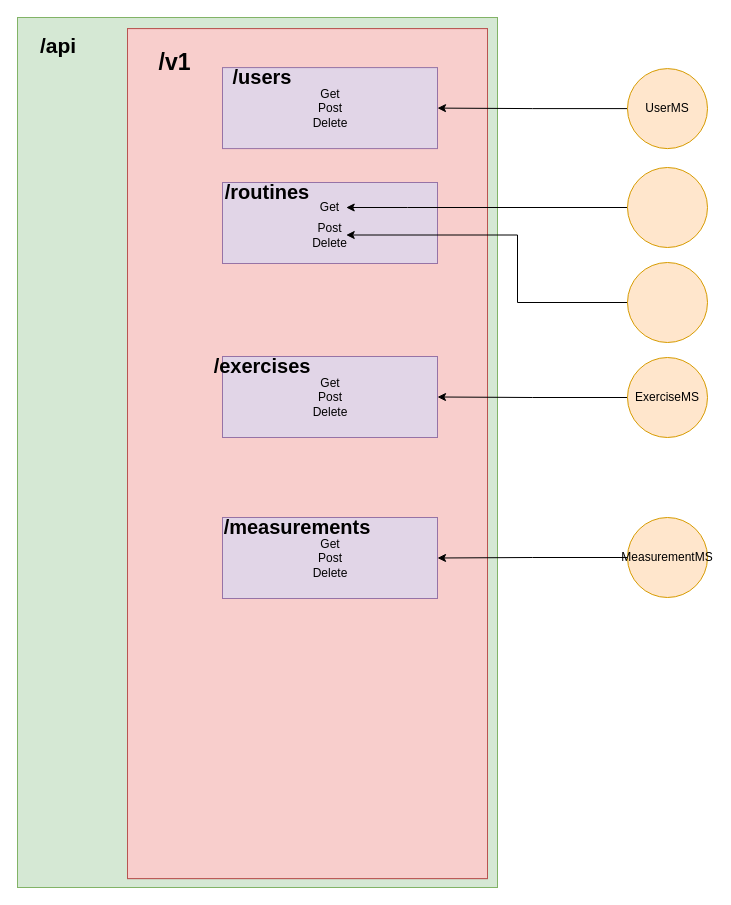
The diagram is 731 pixels wide and 905 high, and some of its shapes have lost their labels. Here are the shapes that lost their labels. From the top down, the centre of each, then its label:
At (667,207): "ComplRoutineMs".
At (667,302): "RoutineMS".
